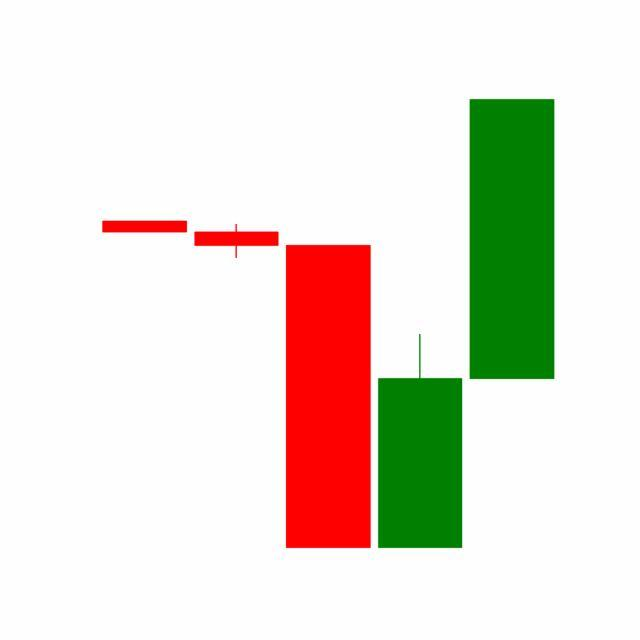Marubozu: (466, 97, 559, 382)
